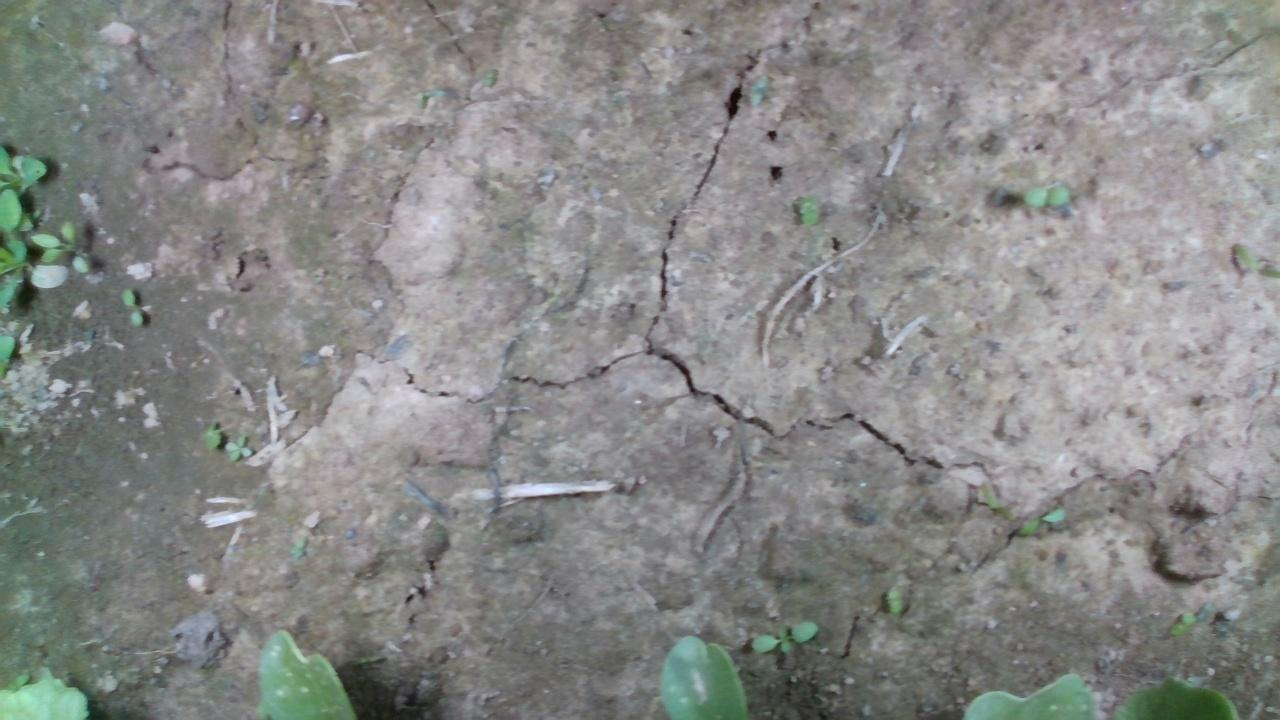weed: (747, 617, 818, 654), (1020, 183, 1070, 206), (221, 432, 253, 462), (119, 286, 143, 326)
